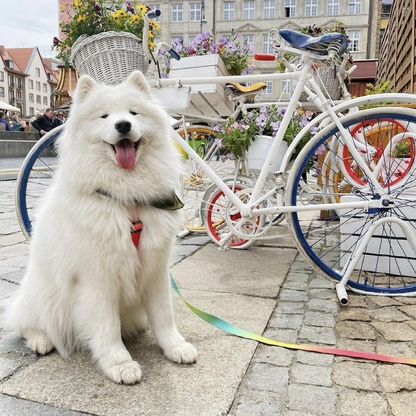samoyed: (1, 65, 209, 388)
